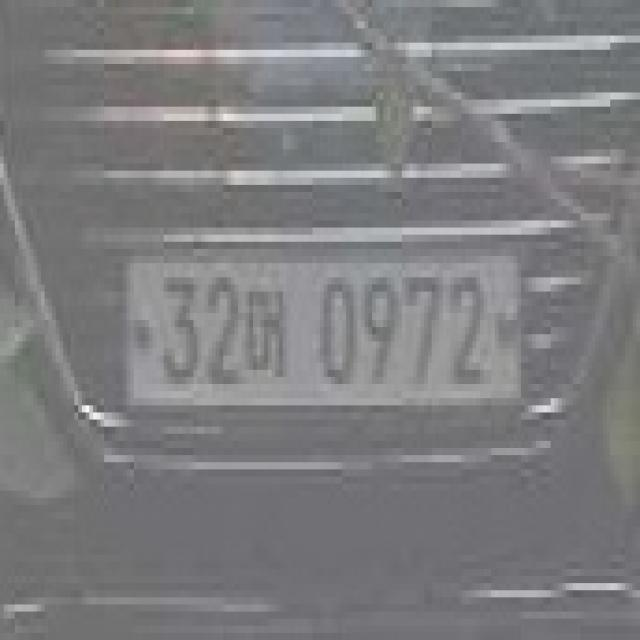0: (320, 277, 353, 384)
2: (447, 263, 488, 391), (208, 270, 242, 384)
3: (164, 270, 197, 391)
7: (406, 270, 442, 384)
9: (361, 277, 398, 391)
license_plate: (123, 249, 521, 419)
meo: (246, 284, 286, 377)
